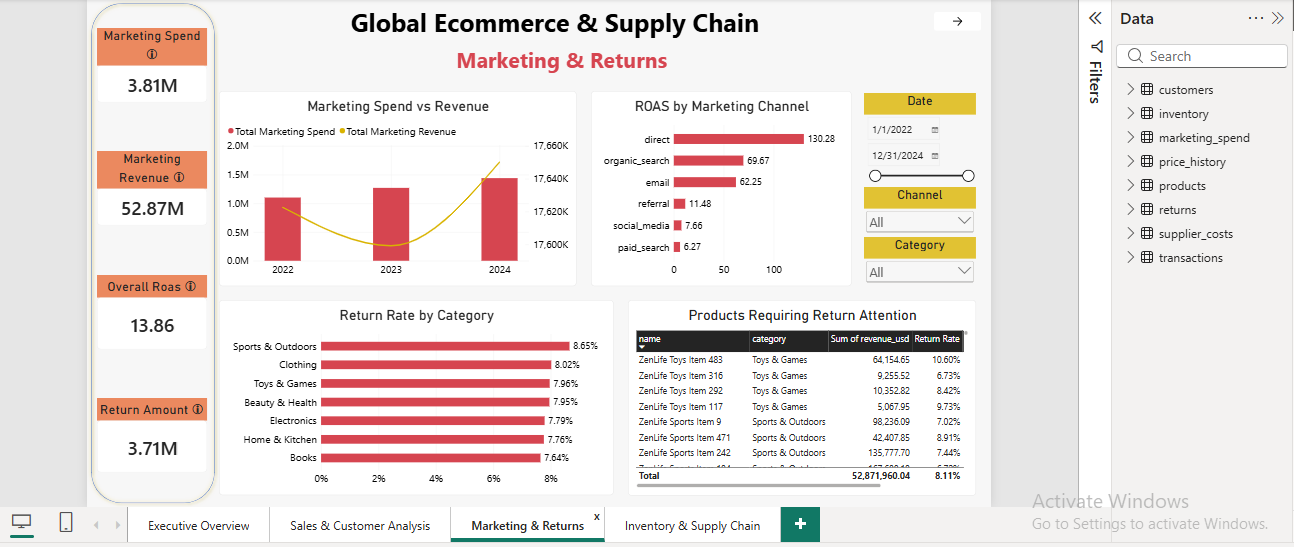

What the dashboard file says about the page in this screenshot:
{"tool":"powerbi","page":{"name":"Marketing & Returns","canvas":[1920,1080],"ordinal":2},"visuals":[{"type":"shape","box":[0,0,280.4,1080.9],"z":0},{"type":"shape","box":[545.8,0,896.9,96.3],"z":1000},{"type":"shape","title":"Marketing & Returns","box":[768.9,96.6,478.9,66.6],"z":2000},{"type":"cardVisual","title":"Marketing Spend 🛈","fields":{"Data":["marketing_spend.Total Marketing Spend"]},"box":[21.5,62.3,234.1,158],"z":3000},{"type":"cardVisual","title":"Marketing Revenue 🛈","fields":{"Data":["marketing_spend.Total Marketing Revenue"]},"box":[21.4,324.1,234.1,158],"z":4000},{"type":"cardVisual","title":"Overall Roas 🛈","fields":{"Data":["marketing_spend.Overall Roas"]},"box":[21.4,585.8,234.1,158],"z":5000},{"type":"cardVisual","title":"Return Amount 🛈","fields":{"Data":["marketing_spend.Return Amount"]},"box":[21.4,847.6,234.1,158],"z":6000},{"type":"lineClusteredColumnComboChart","title":"Marketing Spend vs Revenue","fields":{"Category":["marketing_spend.year_month.Variation.Date Hierarchy.Year","marketing_spend.year_month.Variation.Date Hierarchy.Quarter","marketing_spend.year_month.Variation.Date Hierarchy.Month","marketing_spend.year_month.Variation.Date Hierarchy.Day"],"Y":["marketing_spend.Total Marketing Spend"],"Y2":["marketing_spend.Total Marketing Revenue"]},"box":[280.4,194.8,759.9,415.3],"z":7000},{"type":"clusteredBarChart","title":"ROAS by Marketing Channel","fields":{"Category":["marketing_spend.channel"],"Y":["marketing_spend.Overall Roas"]},"box":[1072.4,194.8,554.4,415.3],"z":8000},{"type":"clusteredBarChart","title":"Return Rate by Category","fields":{"Category":["products.category"],"Y":["transactions.Return Rate"]},"box":[280.4,640,839.1,415.3],"z":9000},{"type":"tableEx","title":"Products Requiring Return Attention","fields":{"Values":["products.name","products.category","Sum(transactions.revenue_usd)","transactions.Return Rate","Sum(returns.refund_amount_usd)"]},"box":[1149.9,639.3,740.1,416.2],"z":10000},{"type":"slicer","title":"Date","fields":{"Values":["transactions.date"]},"box":[1652.4,199.1,237.6,203.3],"z":11000},{"type":"slicer","title":"Channel","fields":{"Values":["transactions.channel"]},"box":[1652.4,400.3,237.6,104.9],"z":12000},{"type":"slicer","title":"Category","fields":{"Values":["transactions.category"]},"box":[1652.4,505.2,237.6,104.9],"z":13000},{"type":"actionButton","box":[1800.1,27.8,100,40],"z":14000}]}

Visuals, with their boxes on the page's 1920x1080 design canvas (x1, y1, x2, y2). These are canvas units, not pixel positions in the 1294x547 screenshot, which may show the page scaled, cropped or inside an application window:
shape: (0, 0, 280, 1081)
shape: (546, 0, 1443, 96)
"Marketing & Returns" shape: (769, 97, 1248, 163)
"Marketing Spend 🛈" cardVisual: (22, 62, 256, 220)
"Marketing Revenue 🛈" cardVisual: (21, 324, 256, 482)
"Overall Roas 🛈" cardVisual: (21, 586, 256, 744)
"Return Amount 🛈" cardVisual: (21, 848, 256, 1006)
"Marketing Spend vs Revenue" lineClusteredColumnComboChart: (280, 195, 1040, 610)
"ROAS by Marketing Channel" clusteredBarChart: (1072, 195, 1627, 610)
"Return Rate by Category" clusteredBarChart: (280, 640, 1120, 1055)
"Products Requiring Return Attention" tableEx: (1150, 639, 1890, 1056)
"Date" slicer: (1652, 199, 1890, 402)
"Channel" slicer: (1652, 400, 1890, 505)
"Category" slicer: (1652, 505, 1890, 610)
actionButton: (1800, 28, 1900, 68)
